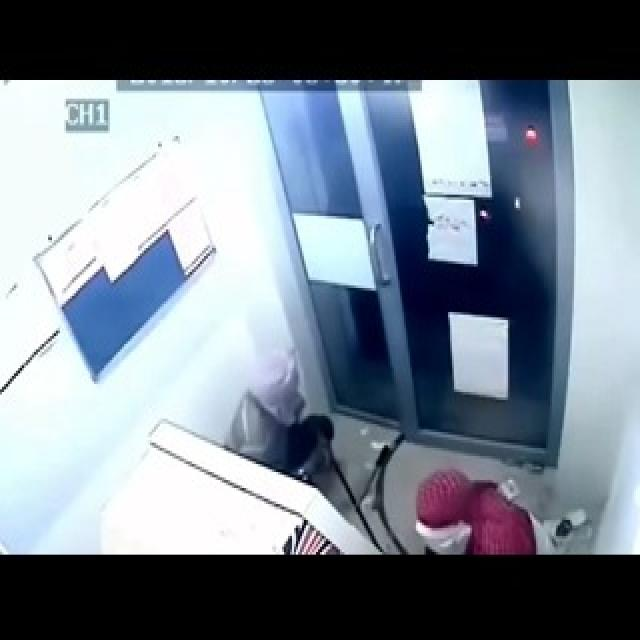thief: (220, 334, 314, 472), (398, 430, 399, 430)
